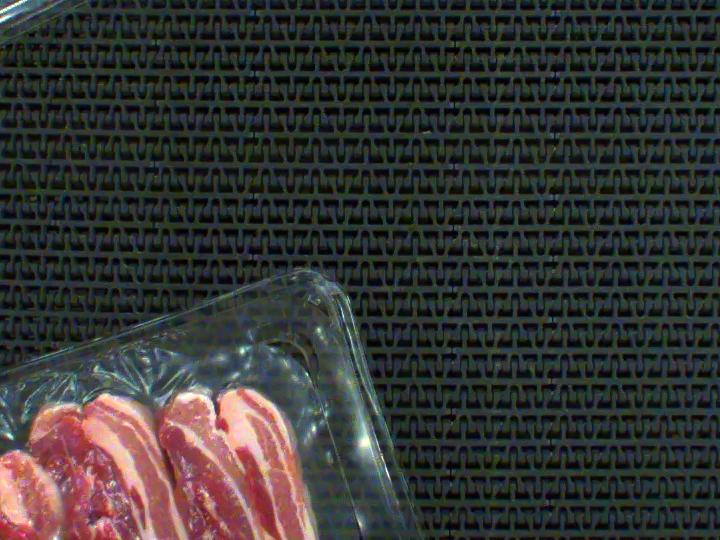unsealed: (0, 323, 331, 540)
